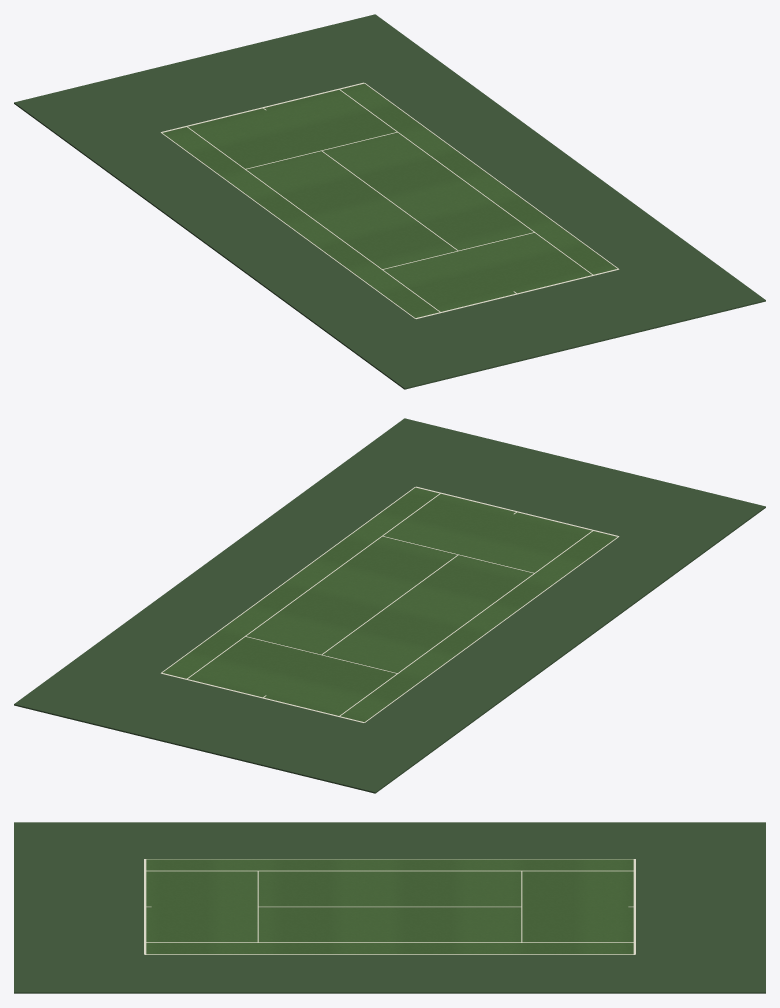
File: court-grass.glb
3 views of the same model, one above another, from view 1: azimuth 30°, elevation 25°; view 2: azimuth 150°, elevation 25°; view 3: azimuth 270°, elevation 25° (orthographic). The views are drawn at different scales.
Visible parts, largest first — view 1: Court surround, Court surface, Ivory court lines; view 2: Court surround, Court surface, Ivory court lines; view 3: Court surround, Court surface, Ivory court lines.
Part boxes in pixels (x1,y1,x2,y2): Court surround: (14,14,765,389); Court surface: (163,83,617,317); Ivory court lines: (160,82,619,319); Court surround: (14,418,765,793); Court surface: (162,487,616,721); Ivory court lines: (160,486,619,723); Court surround: (14,822,765,993); Court surface: (146,859,633,954); Ivory court lines: (144,859,635,954).
Size of the model in its own units: 19.5 by 0.095 by 36.5.
Materials: 3 (1 with a texture image).
